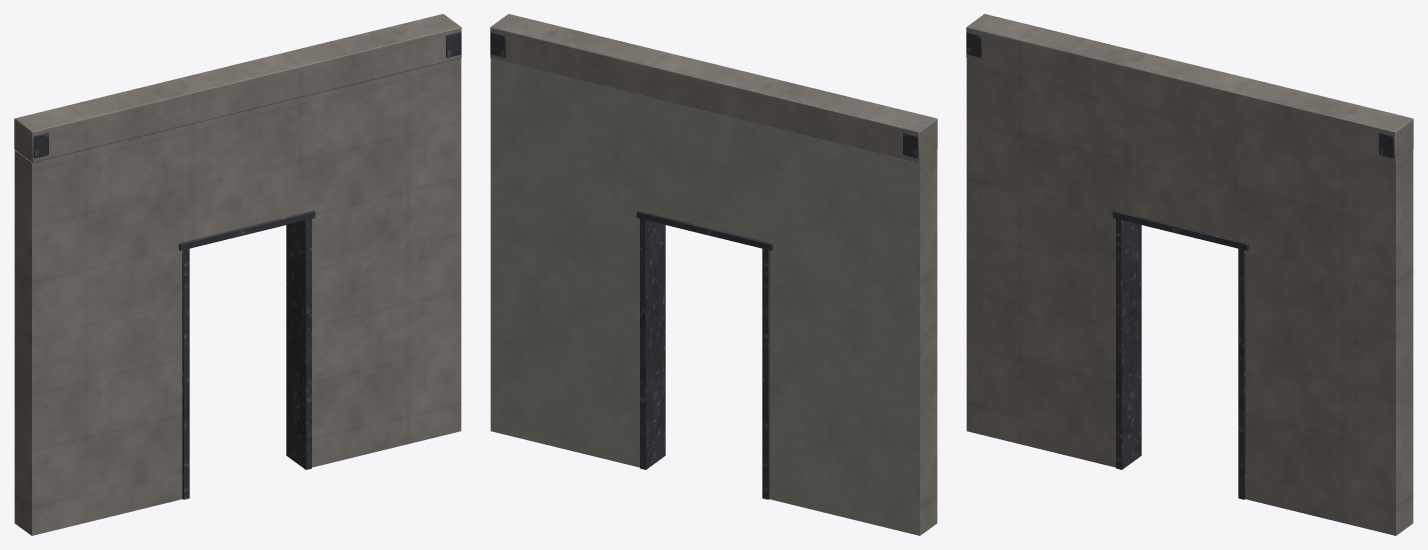
File: BLD_Wall_Door_4m.glb
3 views of the same model, side by side, from view 1: azimuth 30°, elevation 25°; view 2: azimuth 150°, elevation 25°; view 3: azimuth 330°, elevation 25° (orthographic).
Parts seen in each view (by area): view 1: BLD_Wall_Door_4m, BLD_Wall_Door_4m_HeaderBeam, BLD_Wall_Door_4m_SteelFrame; view 2: BLD_Wall_Door_4m, BLD_Wall_Door_4m_HeaderBeam, BLD_Wall_Door_4m_SteelFrame; view 3: BLD_Wall_Door_4m, BLD_Wall_Door_4m_HeaderBeam, BLD_Wall_Door_4m_SteelFrame.
Boxes of the visible parts, x1,y1,x2,y2 form: BLD_Wall_Door_4m: (14, 58, 461, 535); BLD_Wall_Door_4m_HeaderBeam: (14, 14, 461, 162); BLD_Wall_Door_4m_SteelFrame: (179, 210, 315, 499); BLD_Wall_Door_4m: (490, 58, 937, 535); BLD_Wall_Door_4m_HeaderBeam: (490, 14, 937, 162); BLD_Wall_Door_4m_SteelFrame: (636, 210, 772, 499); BLD_Wall_Door_4m: (966, 58, 1413, 535); BLD_Wall_Door_4m_HeaderBeam: (966, 14, 1413, 162); BLD_Wall_Door_4m_SteelFrame: (1112, 210, 1248, 499).
Size of the model in its own units: 4 by 3.6 by 0.32.
Materials: 5 (5 with a texture image).
